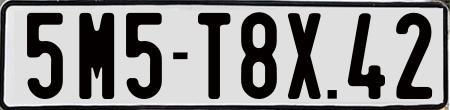2: (396, 11, 436, 99)
4: (348, 11, 388, 103)
5: (125, 11, 161, 103), (25, 13, 62, 101)
8: (238, 12, 274, 99)
M: (76, 13, 115, 100)
T: (195, 11, 227, 99)
X: (287, 11, 326, 98)
